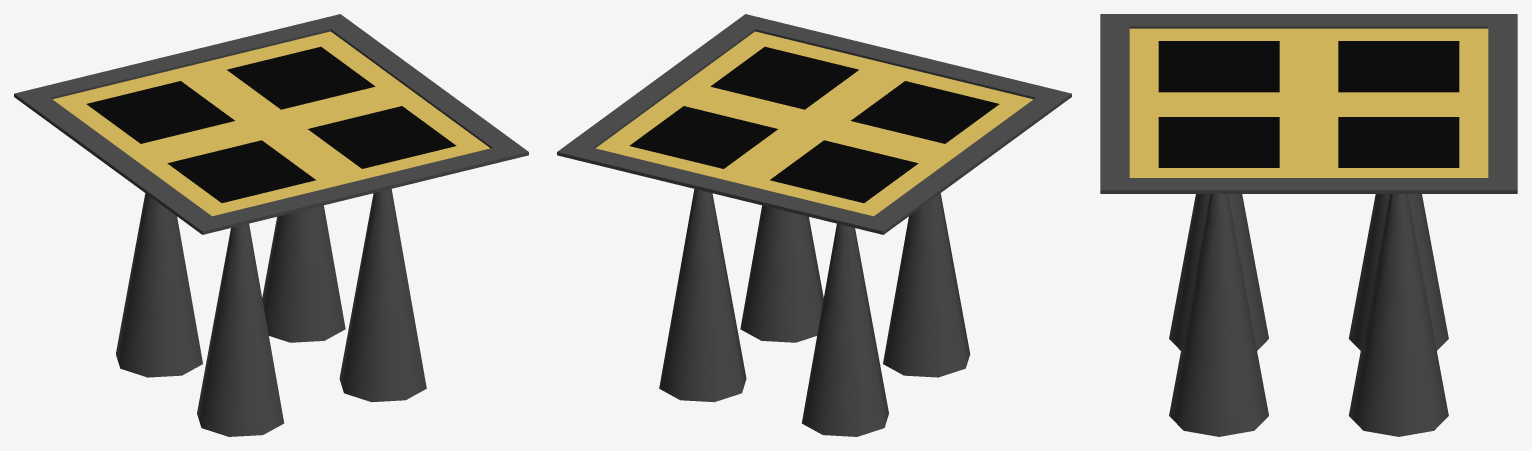
The model's file is Pinchos.fbx.
The picture shows the model from 3 angles, left to right: view 1: azimuth 30°, elevation 25°; view 2: azimuth 150°, elevation 25°; view 3: azimuth 270°, elevation 25°; orthographic projection. The views are drawn at different scales.
Parts seen in each view (by area): view 1: Plane001, Cone004; view 2: Plane001, Cone004; view 3: Plane001, Cone004.
Boxes of the visible parts, x1,y1,x2,y2 form: Plane001: (14, 14, 528, 234); Cone004: (116, 189, 426, 436); Plane001: (557, 14, 1071, 234); Cone004: (659, 189, 970, 436); Plane001: (1100, 14, 1517, 193); Cone004: (1169, 194, 1448, 436).
Size of the model in its own units: 39.37 by 28.65 by 39.37.
